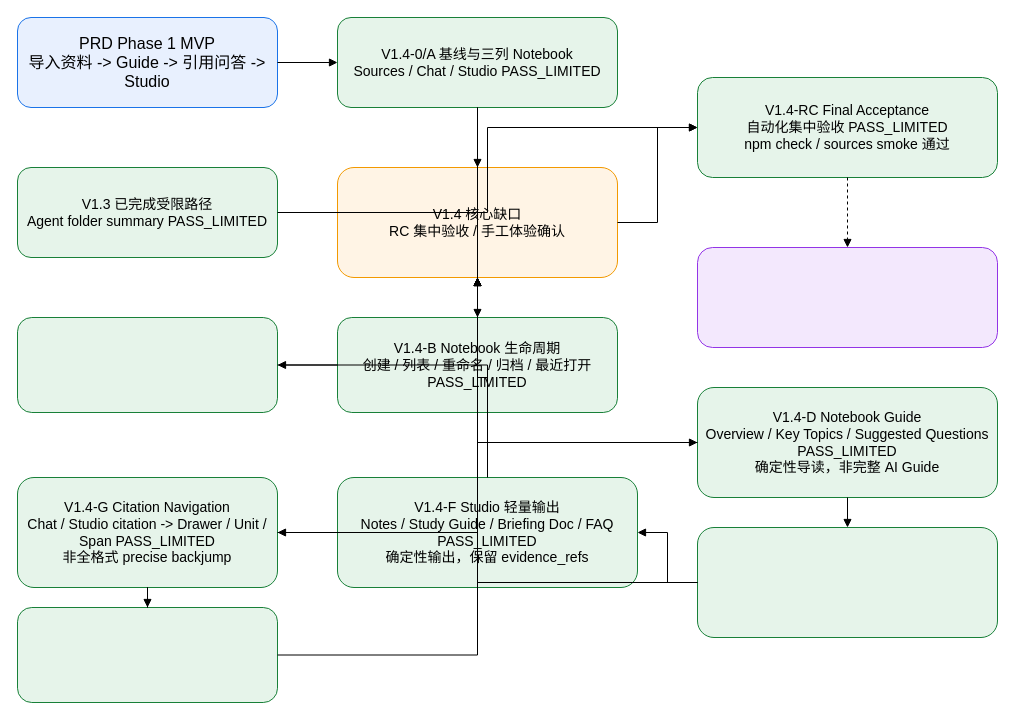
Image size: 1015x720. Some labels were removed from this diagram. The shapes that lost their labels are listed below. From the top down, each one's centre as x and y in pixels, then its label:
At pixel 847 297: "V1.5 Backlog AI 质量验收 / ChromeCLI 人工体验 / Audio / PPT / Research".
At pixel 147 364: "V1.4-C Sources P0 Markdown/TXT/PDF_EXTRACTED PASS_LIMITED 浏览器式上传 smoke 通过".
At pixel 847 582: "V1.4-E Source-grounded Chat 引用问答 / 拒答 / 补源建议 PASS_LIMITED 完整 Research 未声明 ready".
At pixel 147 654: "V1.4-H 补源入口 资料不足 -> 添加来源 PASS_LIMITED 不声明自动 Research".
